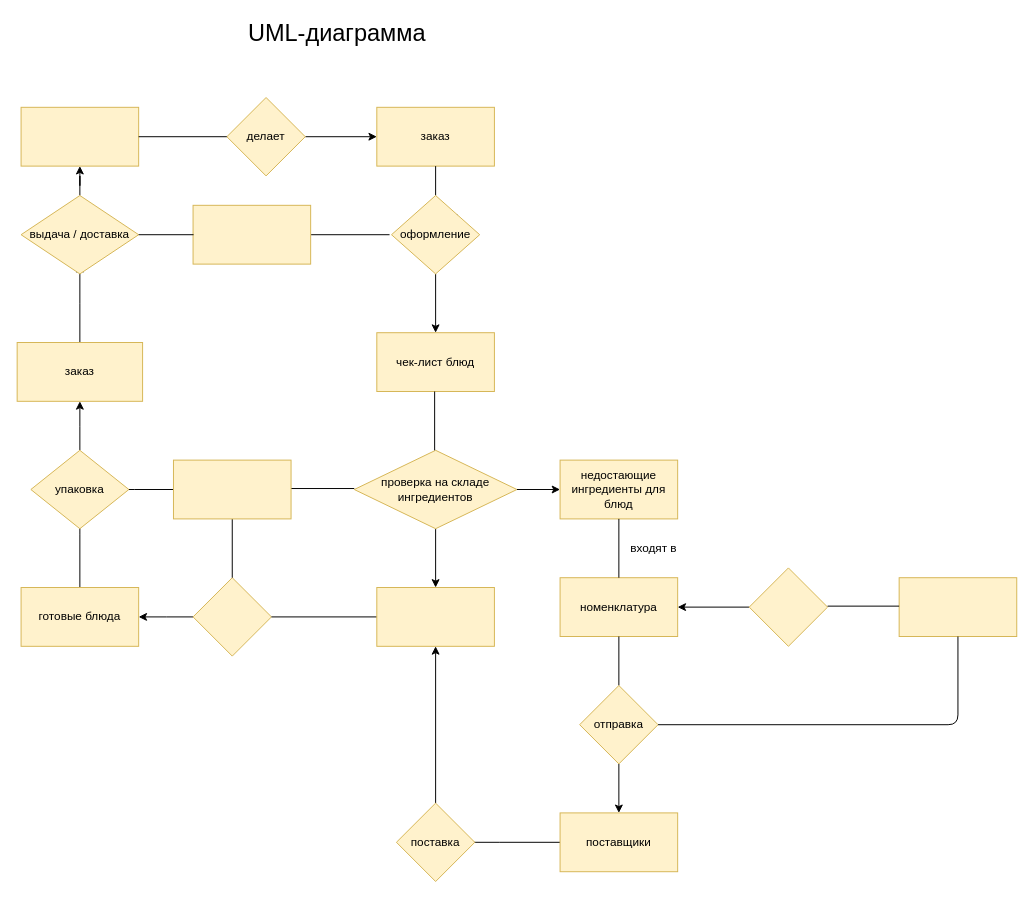
Some shapes in this 1034 by 899 pixel diagram are drawn without their labels. The shapes that lost their labels are listed below. From the top down, each one's centre as x and y in pixels, then its label:
At (x=79, y=136): "клиент".
At (x=251, y=234): "кассир / курьер с л/а".
At (x=231, y=489): "повар-пиццамейкер".
At (x=231, y=616): "готовка".
At (x=435, y=616): "нужные ингредиенты для блюд".
At (x=788, y=606): "создает".
At (x=957, y=607): "бухгалтер".
